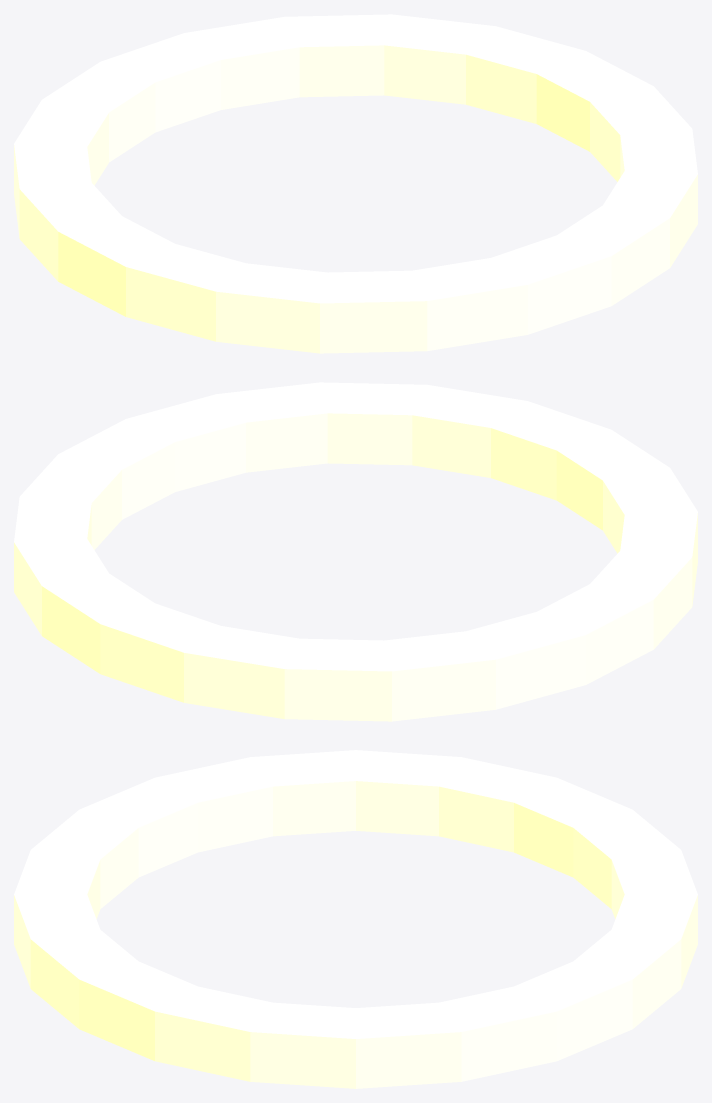
File: halo_star.glb
The picture shows the model from 3 angles, top to bottom: view 1: azimuth 30°, elevation 25°; view 2: azimuth 150°, elevation 25°; view 3: azimuth 270°, elevation 25°; orthographic projection.
Visible parts, largest first — view 1: StarHalo; view 2: StarHalo; view 3: StarHalo.
Boxes of the visible parts, x1,y1,x2,y2 form: StarHalo: (14, 14, 697, 353); StarHalo: (14, 382, 697, 721); StarHalo: (14, 750, 697, 1088).
Bounding box in the file's own units: 0.56 × 0.045 × 0.56.
